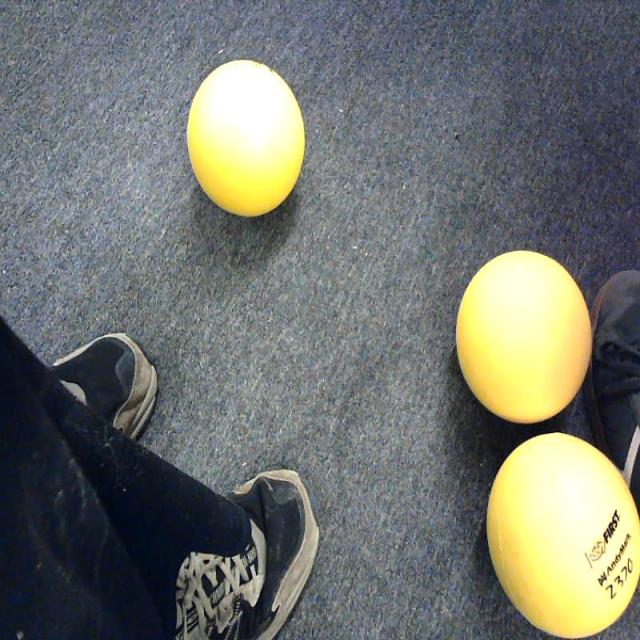Fuel: (485, 431, 640, 639), (455, 250, 593, 425), (187, 59, 305, 218)
